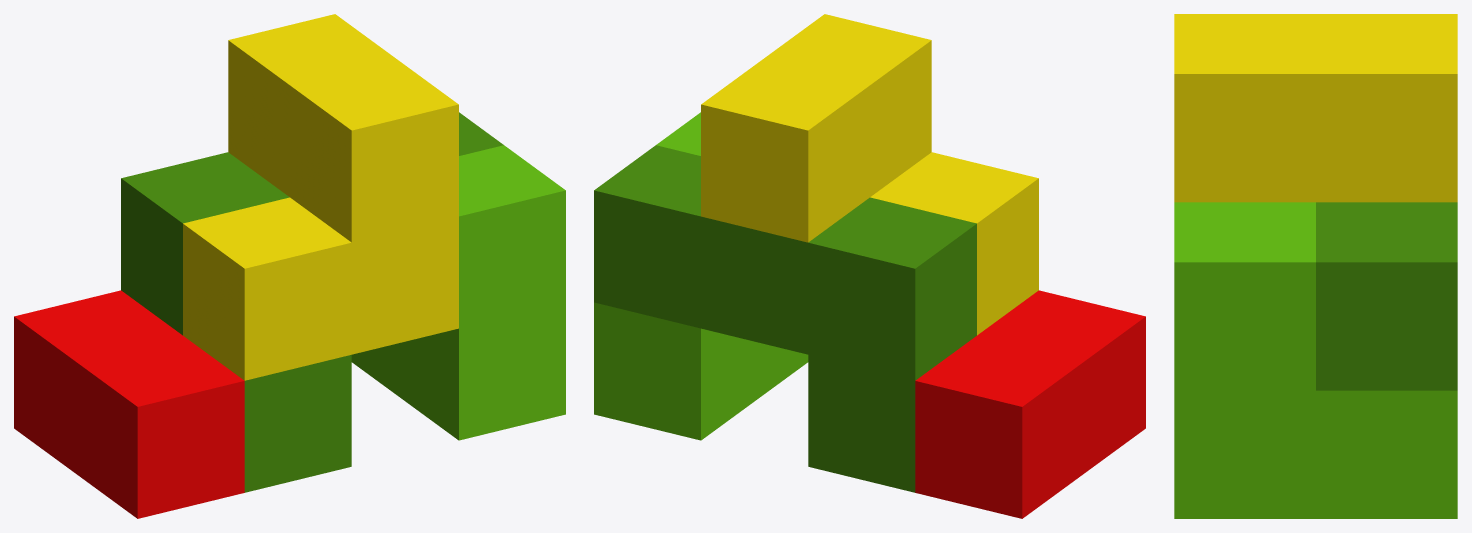
3 views of the same model, side by side, from view 1: azimuth 30°, elevation 25°; view 2: azimuth 150°, elevation 25°; view 3: azimuth 270°, elevation 25° (orthographic). The views are drawn at different scales.
Parts seen in each view (by area): view 1: mergedBlocks(Clone); view 2: mergedBlocks(Clone); view 3: mergedBlocks(Clone).
Part boxes in pixels (box(x1,y1,x2,y2)): mergedBlocks(Clone): box(14, 14, 565, 518); mergedBlocks(Clone): box(594, 14, 1145, 518); mergedBlocks(Clone): box(1174, 14, 1457, 518).
Bounding box in the file's own units: 4 × 3 × 2.
Materials: 4 (4 with a texture image).
